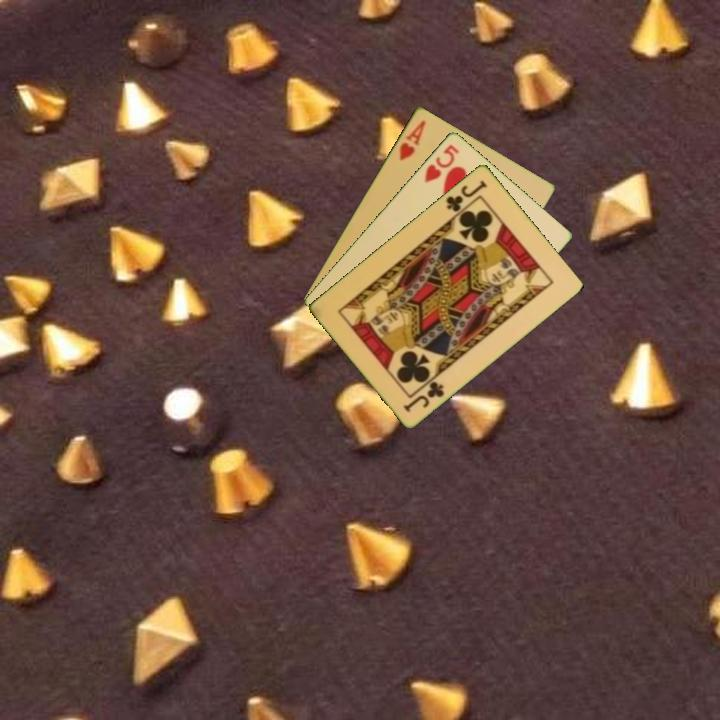5h: (421, 141, 462, 185)
Ah: (395, 116, 428, 163)
Jc: (442, 176, 490, 215), (400, 377, 447, 415)
